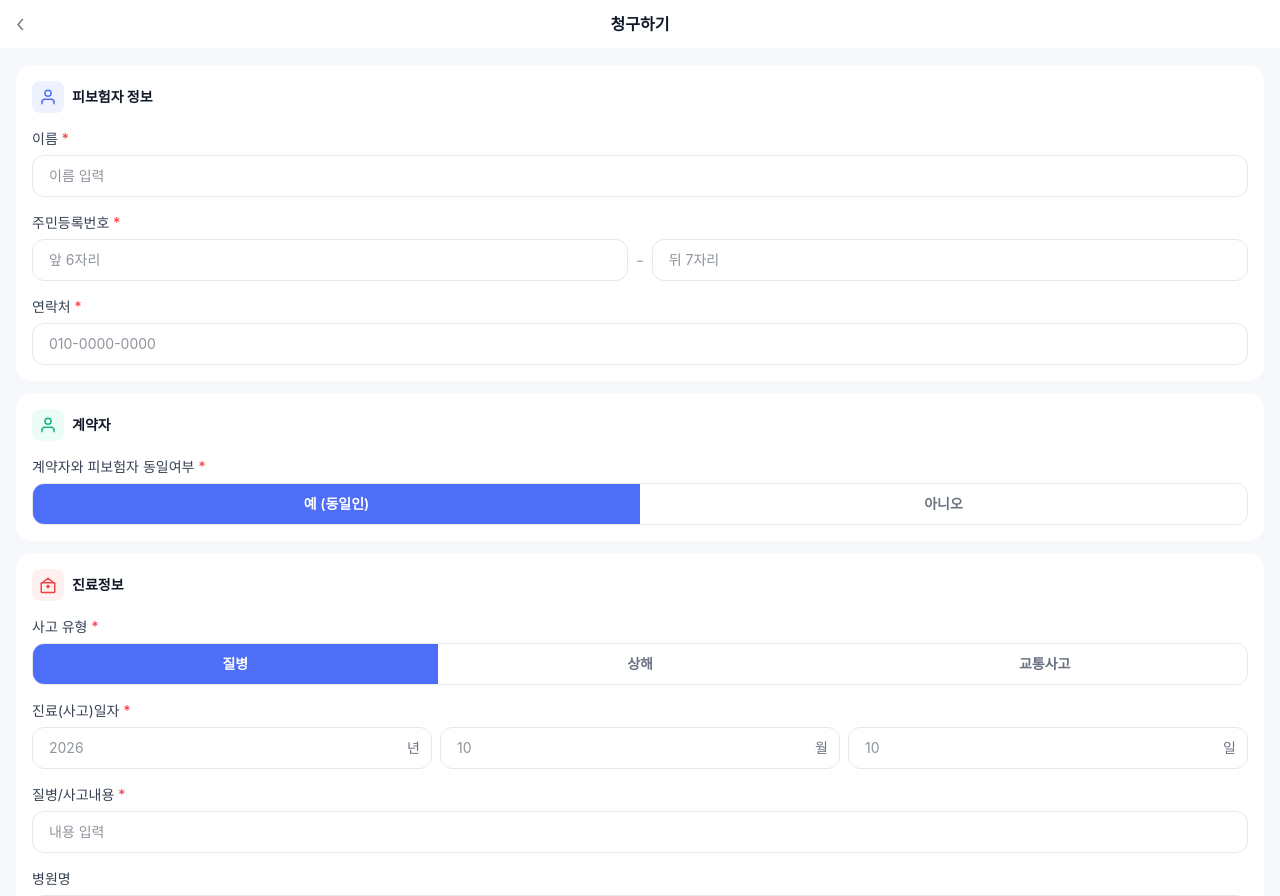
Test case: ClaimNew (청구하기 폼) › 성공 케이스 › 전화번호 입력 시 자동으로 하이픈 포맷팅된다
Step 1. Type "01012345678" into the field with placeholder "010-0000-0000" → (640, 344), box [32, 323, 1248, 365]
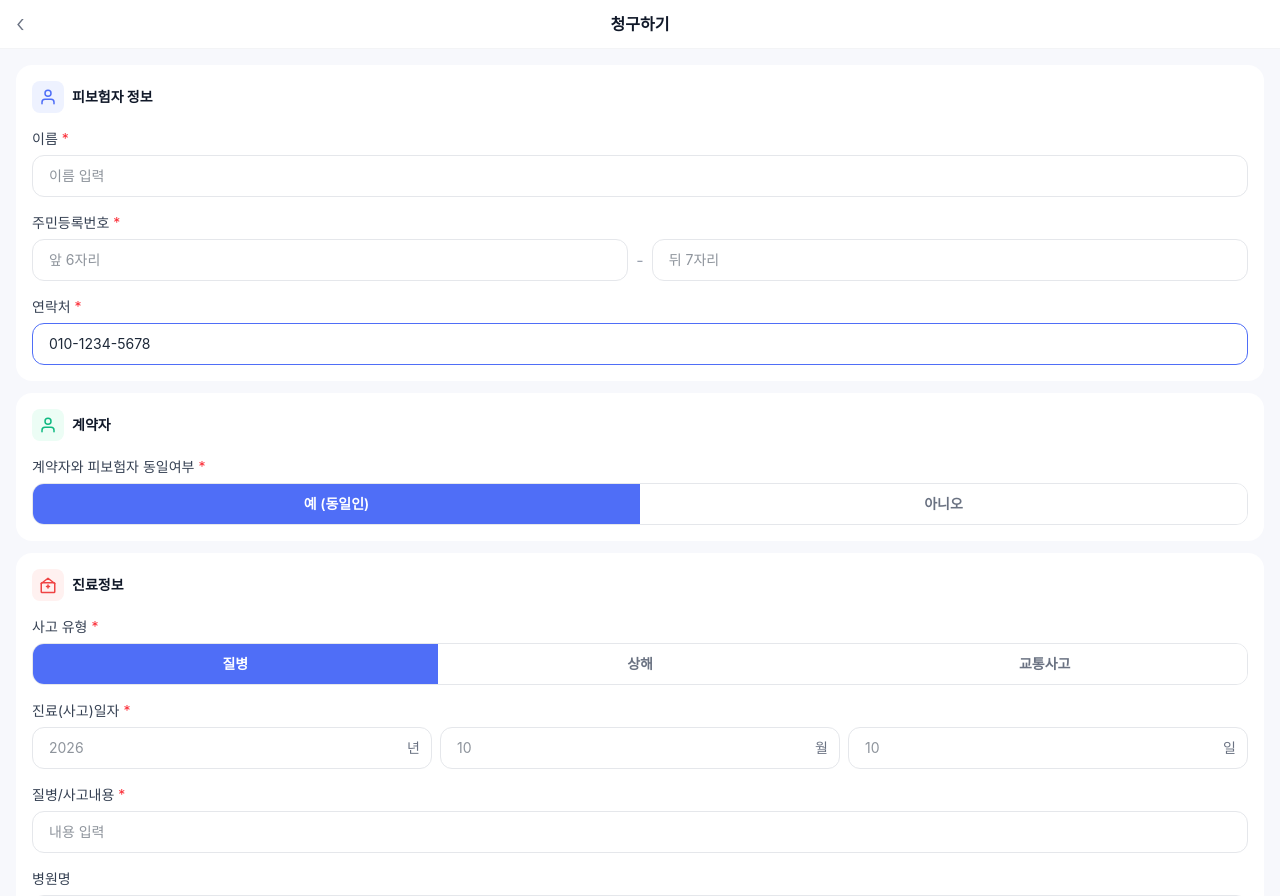
Expected: the field with placeholder "010-0000-0000" holds "010-1234-5678", [32, 323, 1248, 365]
